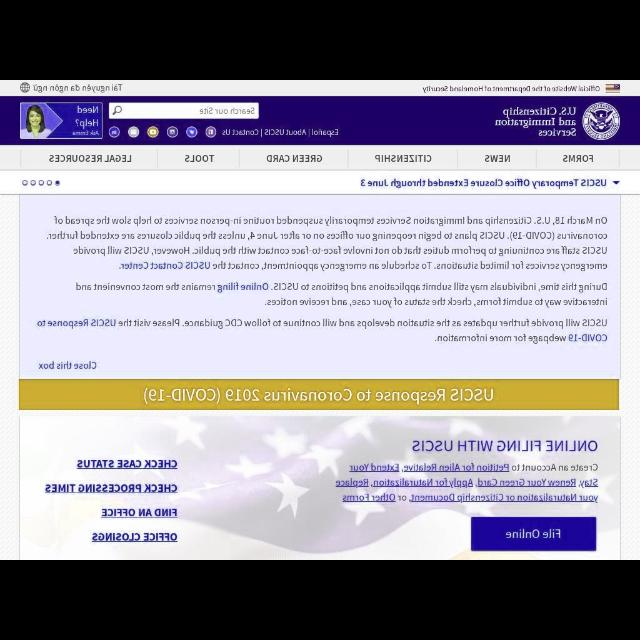icon: (20, 82, 30, 92), (612, 178, 620, 190), (114, 106, 122, 115)
image: (18, 101, 102, 139), (582, 102, 622, 142), (167, 125, 180, 139), (603, 83, 621, 93), (187, 127, 200, 139), (148, 125, 160, 138), (128, 125, 140, 138), (206, 125, 217, 138), (109, 126, 119, 140)
input: (108, 103, 258, 119)
link: (372, 478, 576, 487), (410, 494, 600, 501), (120, 258, 212, 270), (403, 463, 511, 473), (36, 319, 116, 327), (347, 462, 399, 472), (569, 332, 609, 344), (344, 493, 394, 502), (218, 284, 268, 292), (336, 478, 370, 487), (580, 478, 598, 490)
pageindicator: (19, 176, 61, 188)
spinner: (357, 174, 626, 192)
text: (44, 215, 610, 272), (35, 316, 610, 346), (76, 282, 608, 308), (334, 462, 598, 503), (143, 385, 494, 407), (494, 106, 576, 140), (358, 178, 610, 188), (410, 440, 600, 452), (43, 483, 177, 495), (422, 85, 600, 93), (77, 458, 176, 470), (33, 80, 125, 92), (90, 532, 178, 544), (99, 506, 177, 518), (49, 154, 133, 164), (506, 526, 560, 540), (266, 152, 324, 164), (36, 361, 96, 372), (374, 152, 434, 162), (198, 108, 256, 116), (266, 129, 306, 137), (222, 128, 260, 136), (184, 154, 212, 164), (563, 154, 595, 162), (484, 154, 512, 162), (312, 128, 340, 136)
textbutton: (472, 518, 596, 552)
